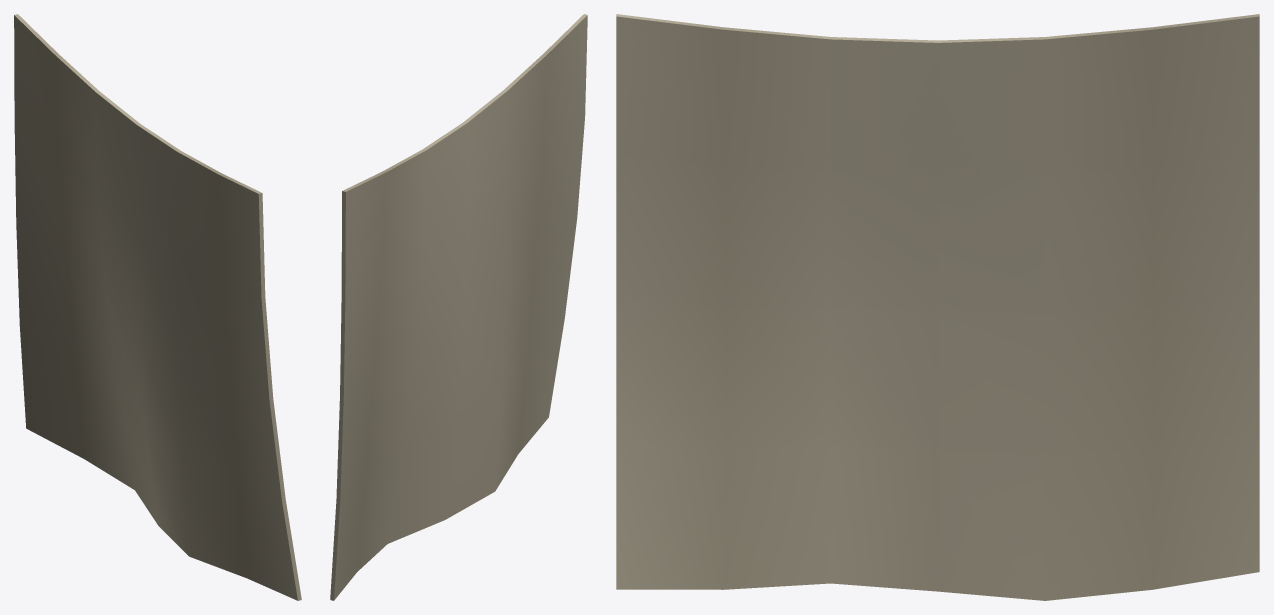
File: ph_tool_linen.glb
3 renders of one model, left to right at view 1: azimuth 30°, elevation 25°; view 2: azimuth 150°, elevation 25°; view 3: azimuth 270°, elevation 25°, orthographic. The views are drawn at different scales.
Parts seen in each view (by area): view 1: ph_tool_linen; view 2: ph_tool_linen; view 3: ph_tool_linen.
Part boxes in pixels (x1,y1,x2,y2): ph_tool_linen: (14,14,301,600); ph_tool_linen: (330,14,587,600); ph_tool_linen: (616,14,1259,600).
Size of the model in its own units: 0.0699 by 0.635 by 0.66.
